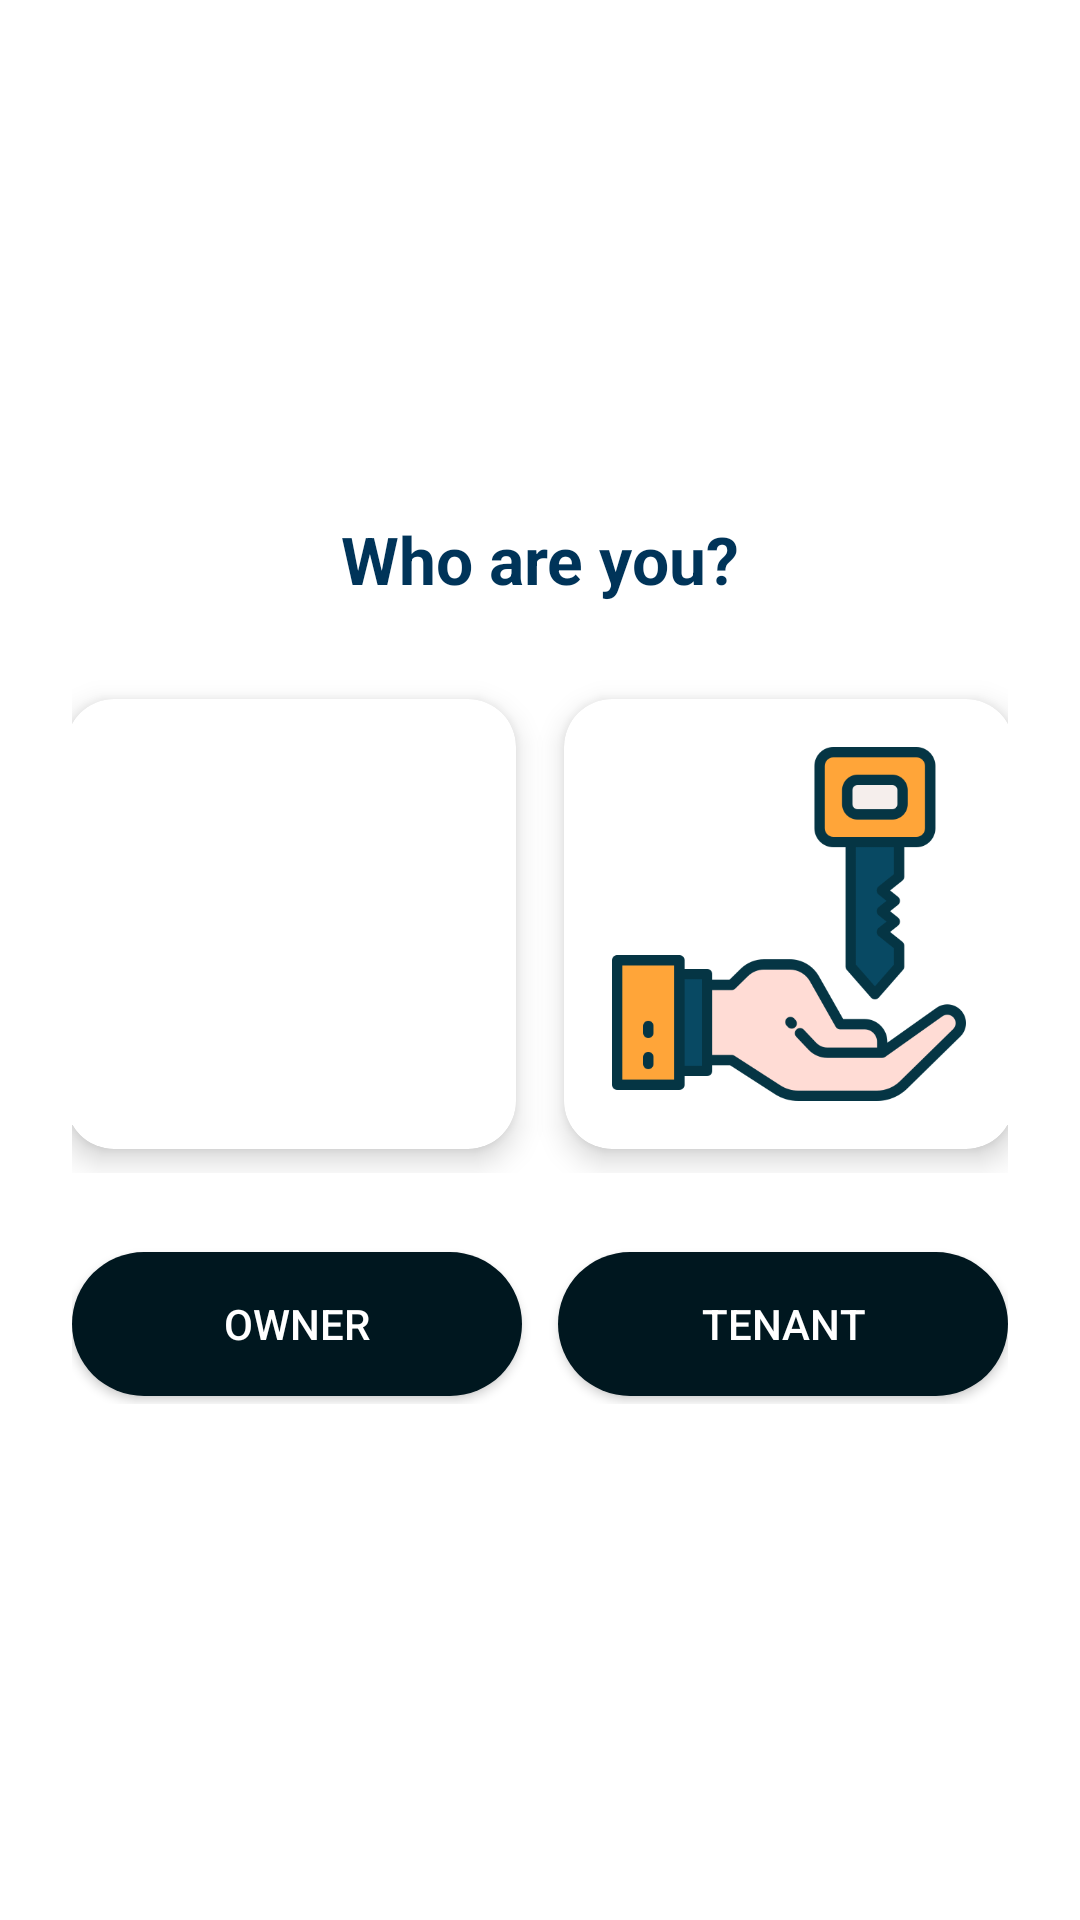

Screen size 1080px×1920px. Icon name, then its box in pixels as (x1, y1, x2, y2):
tenant: (612, 747, 966, 1101)
